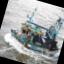fishing boat: (5, 0, 64, 59)
